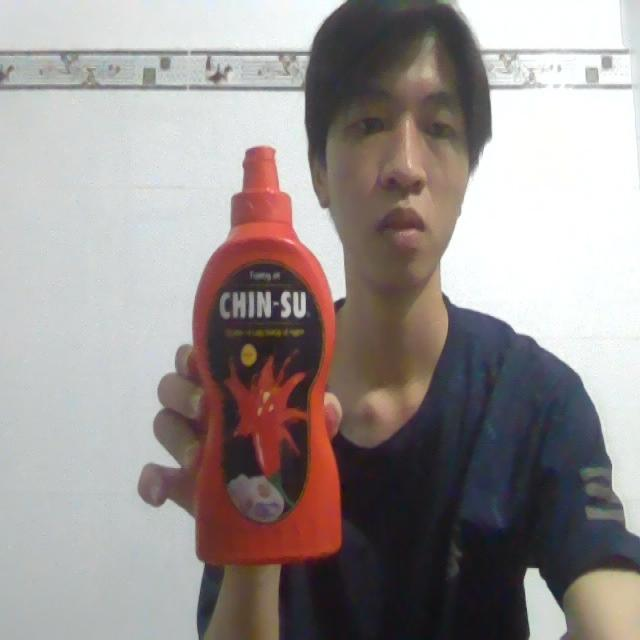tuong ot chinsu: (188, 144, 347, 566)
